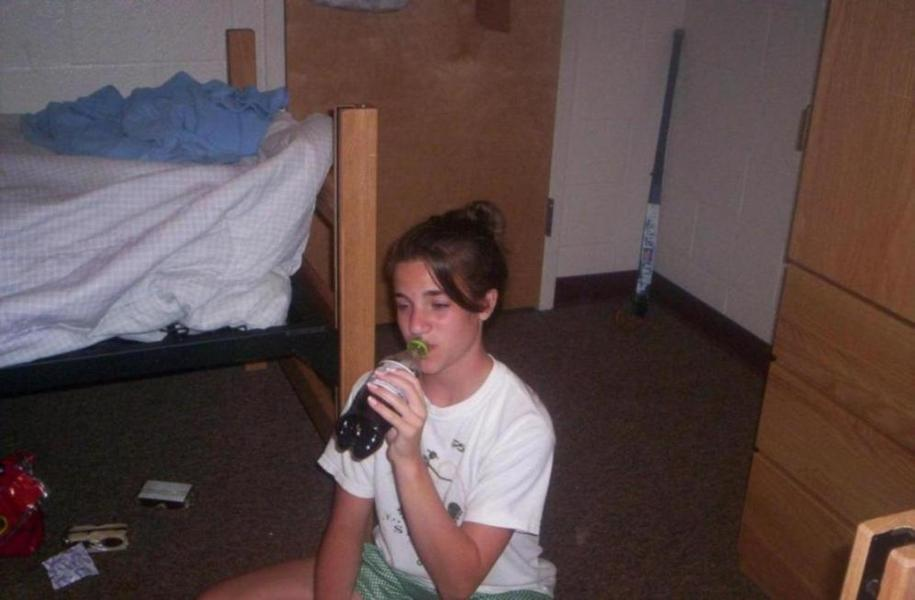person: (199, 203, 560, 600)
